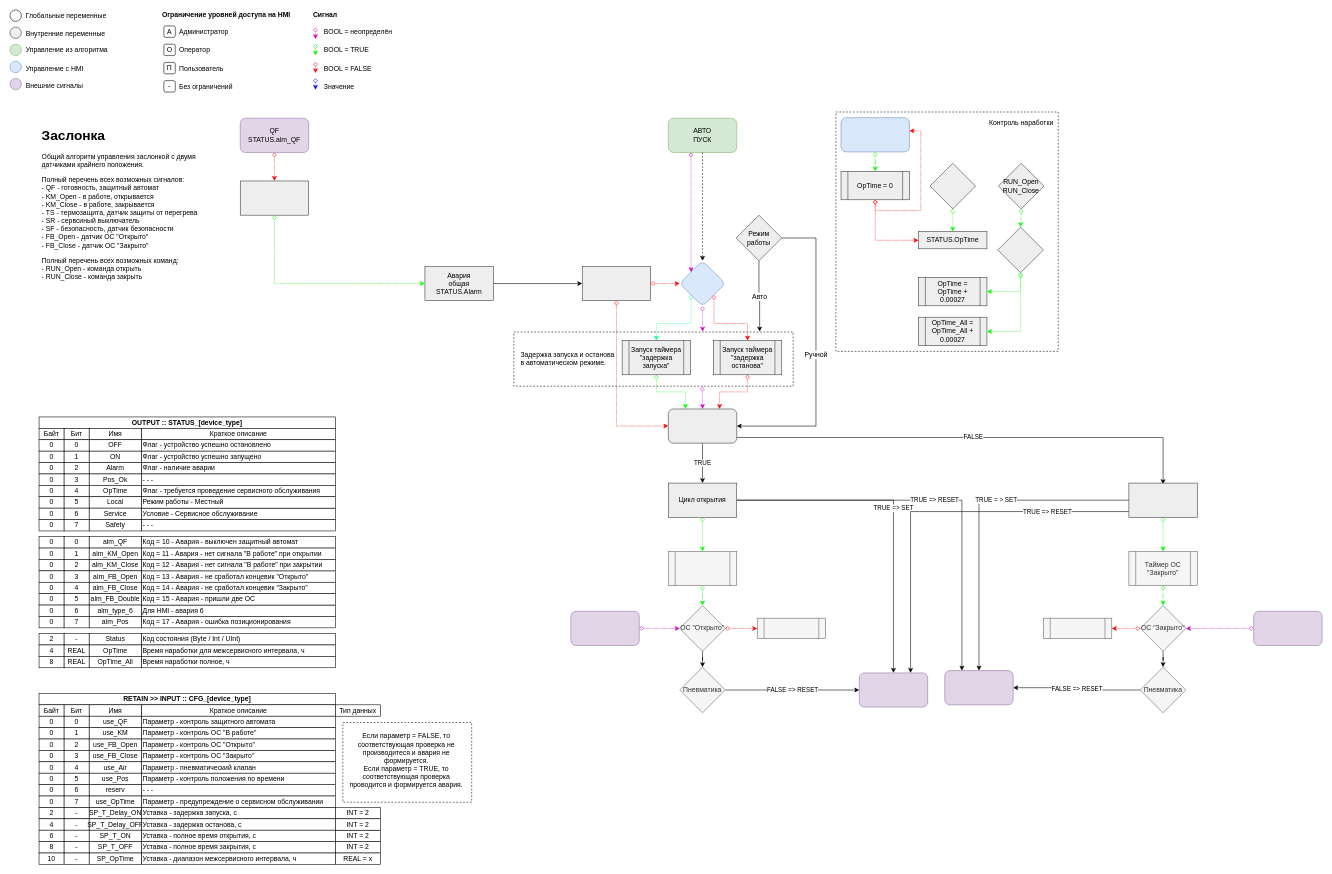
This 1332x874 diagram has some shape labels left out. Each missing label, with the centre of its shape:
CMD.ResetOpTime: point 874,134
FB_Close: point 1287,628
FB_Open: point 604,628
OpTime >= SP_OpTime: point 952,186
pulse_1s: point 1020,250
RUN_Close: point 978,687
RUN_Open: point 893,689
Авария "выключен защитный автомат": point 274,197
Авария код 13: point 791,628
Авария код 14: point 1077,628
Команда запуска: point 702,425
Отключение устройства: point 616,283
РУЧНОЙ ПУСК: point 702,283
Таймер ОС "Открыто": point 702,568
Цикл закрытия: point 1162,500
